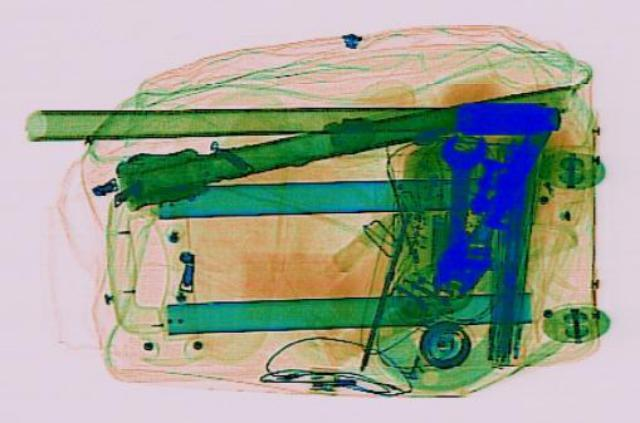Wrench: (431, 133, 487, 234)
